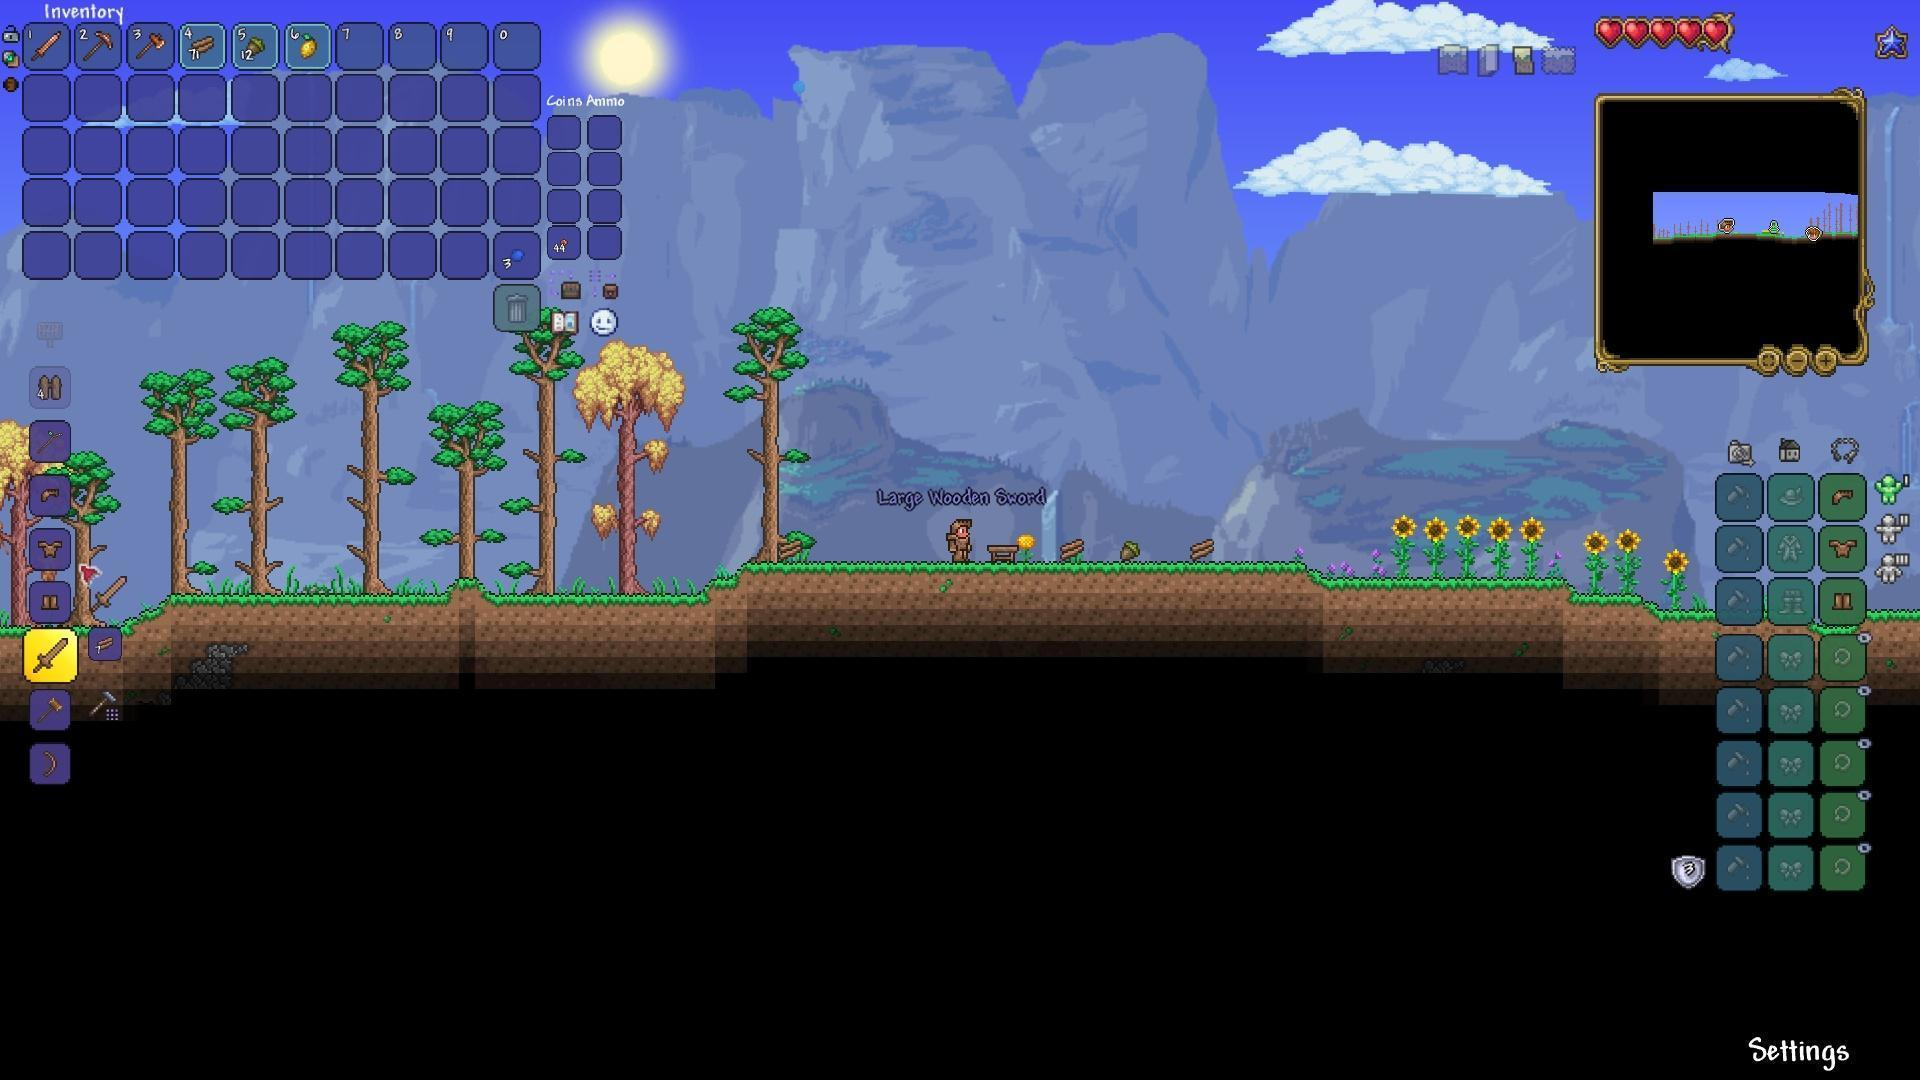breastplate: (34, 538, 65, 559), (1830, 535, 1859, 556)
helmet: (34, 483, 65, 510), (1828, 483, 1858, 509)
legs: (40, 587, 65, 616), (1832, 585, 1855, 615)
wood: (186, 29, 219, 59), (774, 535, 807, 566), (91, 629, 123, 659), (1059, 535, 1091, 566), (1185, 535, 1217, 566)
workbench: (981, 539, 1018, 564)
